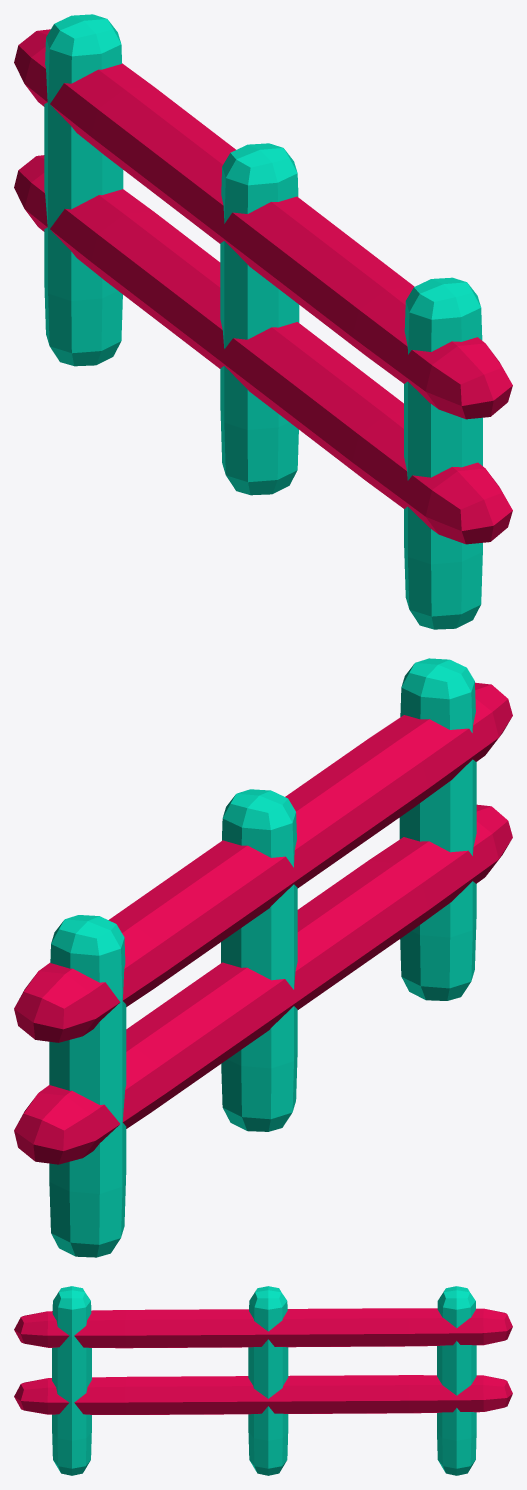
File: Fence_short.fbx
3 views of the same model, one above another, from view 1: azimuth 30°, elevation 25°; view 2: azimuth 150°, elevation 25°; view 3: azimuth 270°, elevation 25° (orthographic). The views are drawn at different scales.
Visible parts, largest first — view 1: Cube.011, Cube.010, Cube.009, Cube.007, Cube.008; view 2: Cube.011, Cube.010, Cube.009, Cube.008, Cube.007; view 3: Cube.011, Cube.010, Cube.007, Cube.008, Cube.009.
Boxes of the visible parts, box(x1,y1,x2,y2) form: Cube.011: box(14, 29, 512, 419); Cube.010: box(14, 155, 512, 544); Cube.009: box(44, 14, 123, 366); Cube.007: box(404, 277, 482, 629); Cube.008: box(220, 143, 299, 495); Cube.011: box(14, 682, 512, 1042); Cube.010: box(14, 804, 512, 1164); Cube.009: box(49, 915, 126, 1257); Cube.008: box(221, 789, 297, 1131); Cube.007: box(399, 658, 476, 1000); Cube.011: box(14, 1308, 512, 1348); Cube.010: box(14, 1375, 512, 1414); Cube.007: box(52, 1286, 91, 1475); Cube.008: box(248, 1286, 288, 1475); Cube.009: box(437, 1286, 476, 1475).
Bounding box in the file's own units: 0.9697 × 3.91 × 9.71.
